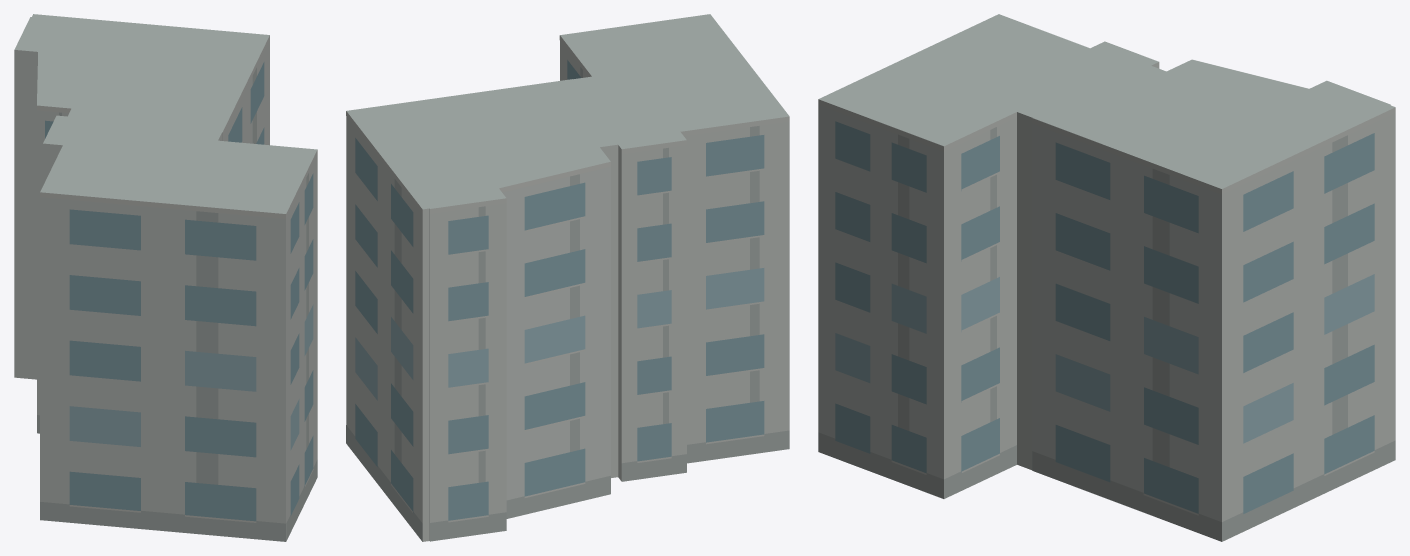
The model's file is survey-upis-32912241.glb.
3 renders of one model, left to right at view 1: azimuth 30°, elevation 25°; view 2: azimuth 150°, elevation 25°; view 3: azimuth 270°, elevation 25°, orthographic. The views are drawn at different scales.
Visible parts, largest first — view 1: survey-upis-32912241.tmp; view 2: survey-upis-32912241.tmp; view 3: survey-upis-32912241.tmp.
Part boxes in pixels (x1,y1,x2,y2): survey-upis-32912241.tmp: (14,14,317,541); survey-upis-32912241.tmp: (346,14,789,541); survey-upis-32912241.tmp: (818,14,1395,541).
Size of the model in its own units: 16.99 by 15.95 by 23.67.
